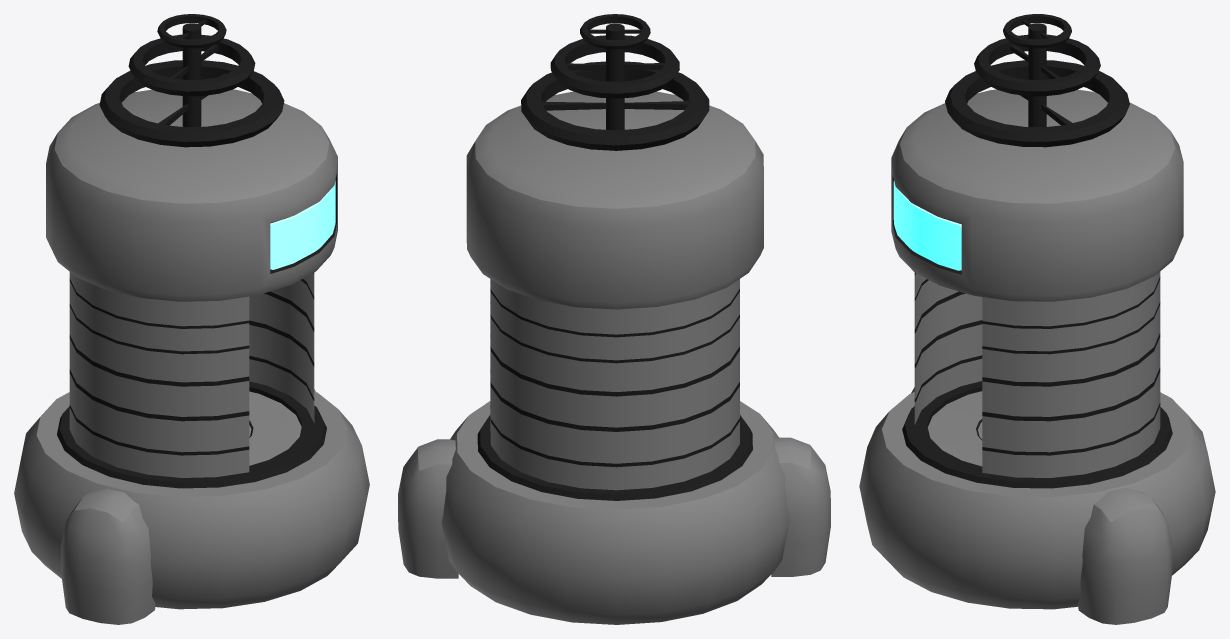
Rendered from Teleporter.fbx.
The picture shows the model from 3 angles, left to right: view 1: azimuth 30°, elevation 25°; view 2: azimuth 150°, elevation 25°; view 3: azimuth 270°, elevation 25°; orthographic projection. The views are drawn at different scales.
Parts seen in each view (by area): view 1: teleportador; view 2: teleportador; view 3: teleportador.
Part boxes in pixels (bbox=[...]): teleportador: bbox=[14, 14, 369, 624]; teleportador: bbox=[398, 14, 830, 624]; teleportador: bbox=[859, 14, 1215, 624].
Bounding box in the file's own units: 258 × 385 × 240.
